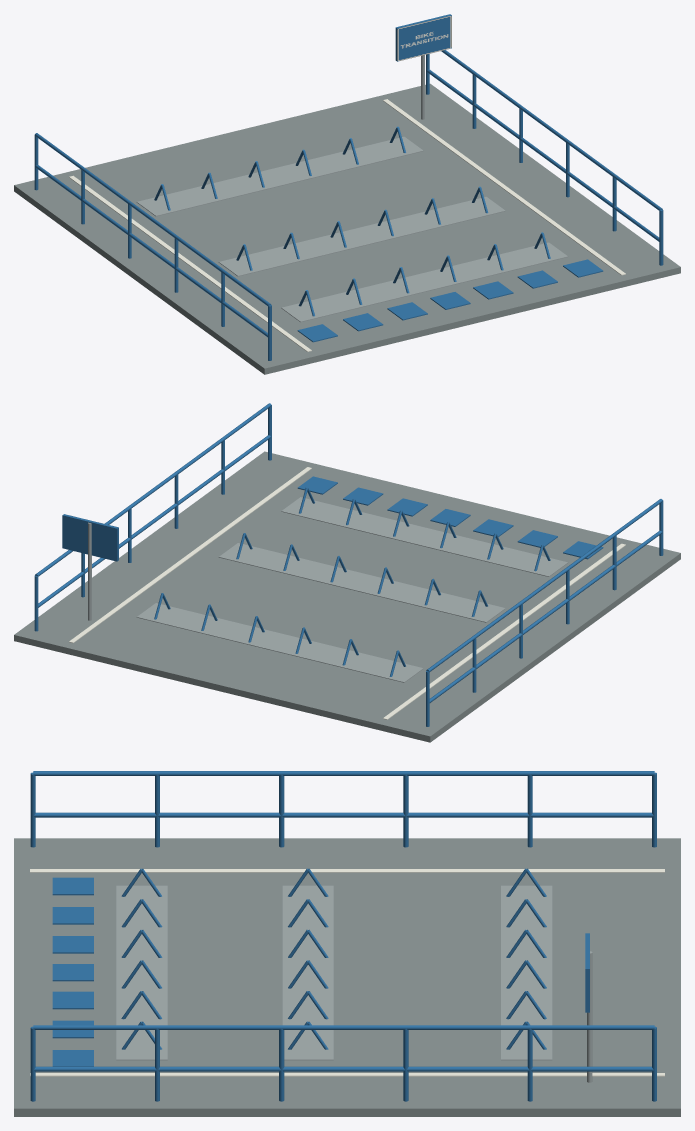
The model's file is scendance-plan-transition-zone.glb.
3 renders of one model, top to bottom at view 1: azimuth 30°, elevation 25°; view 2: azimuth 150°, elevation 25°; view 3: azimuth 270°, elevation 25°, orthographic. The views are drawn at different scales.
Bounding box in the file's own units: 7 × 1.67 × 7.3.
Materials: 6 (1 with a texture image).
